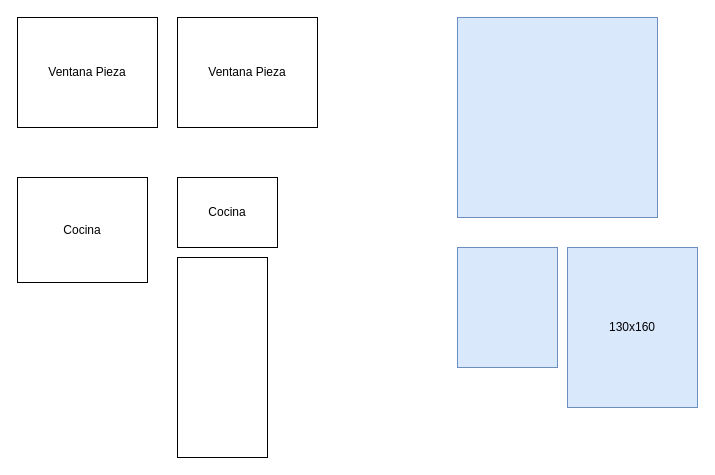
This 715x475 diagram has some shape labels left out. The centre of each missing label's shape, as x and y in pixels:
100x120: (507,307)
200x200: (557,117)
Living: (222,357)
